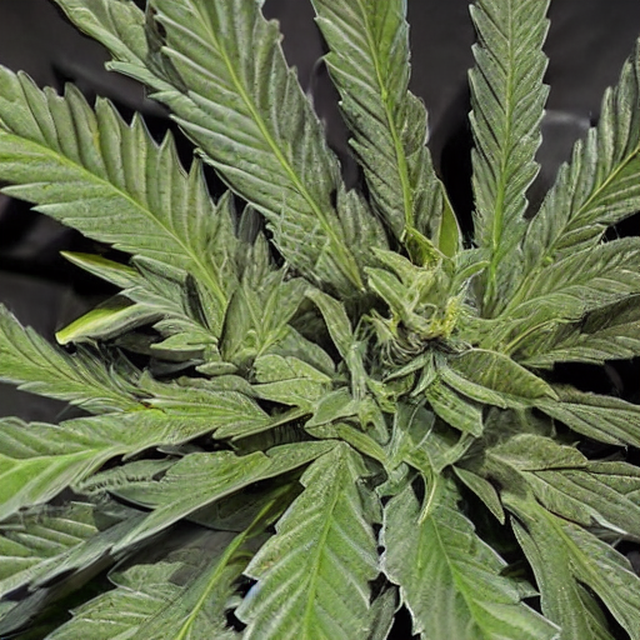Marijuana Bud: (67, 131, 622, 577)
